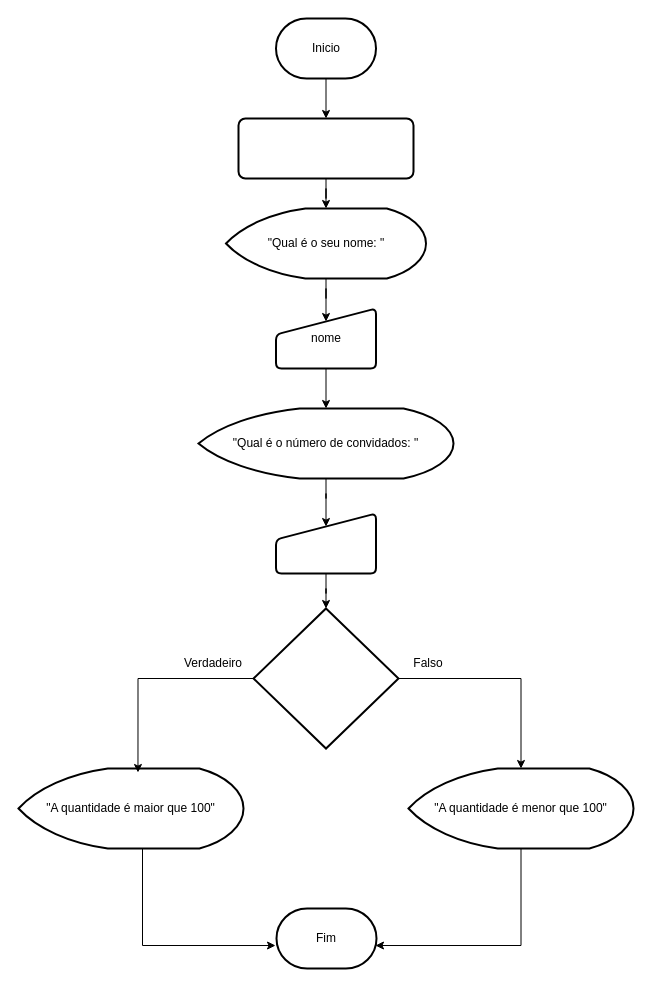
Some shapes in this 651 by 986 pixel diagram are drawn without their labels. Here are the shapes that lost their labels. From the top down, the centre of each, then its label:
At (325,148): "cadeia nome inteiro numConvidados".
At (325,543): "numConvidados".
At (325,678): "numConvidados > 100".
